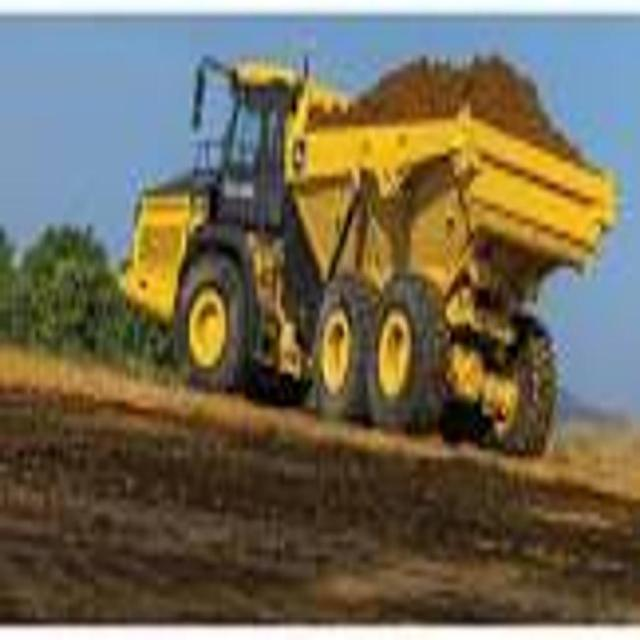dump_truck: (127, 38, 617, 453)
